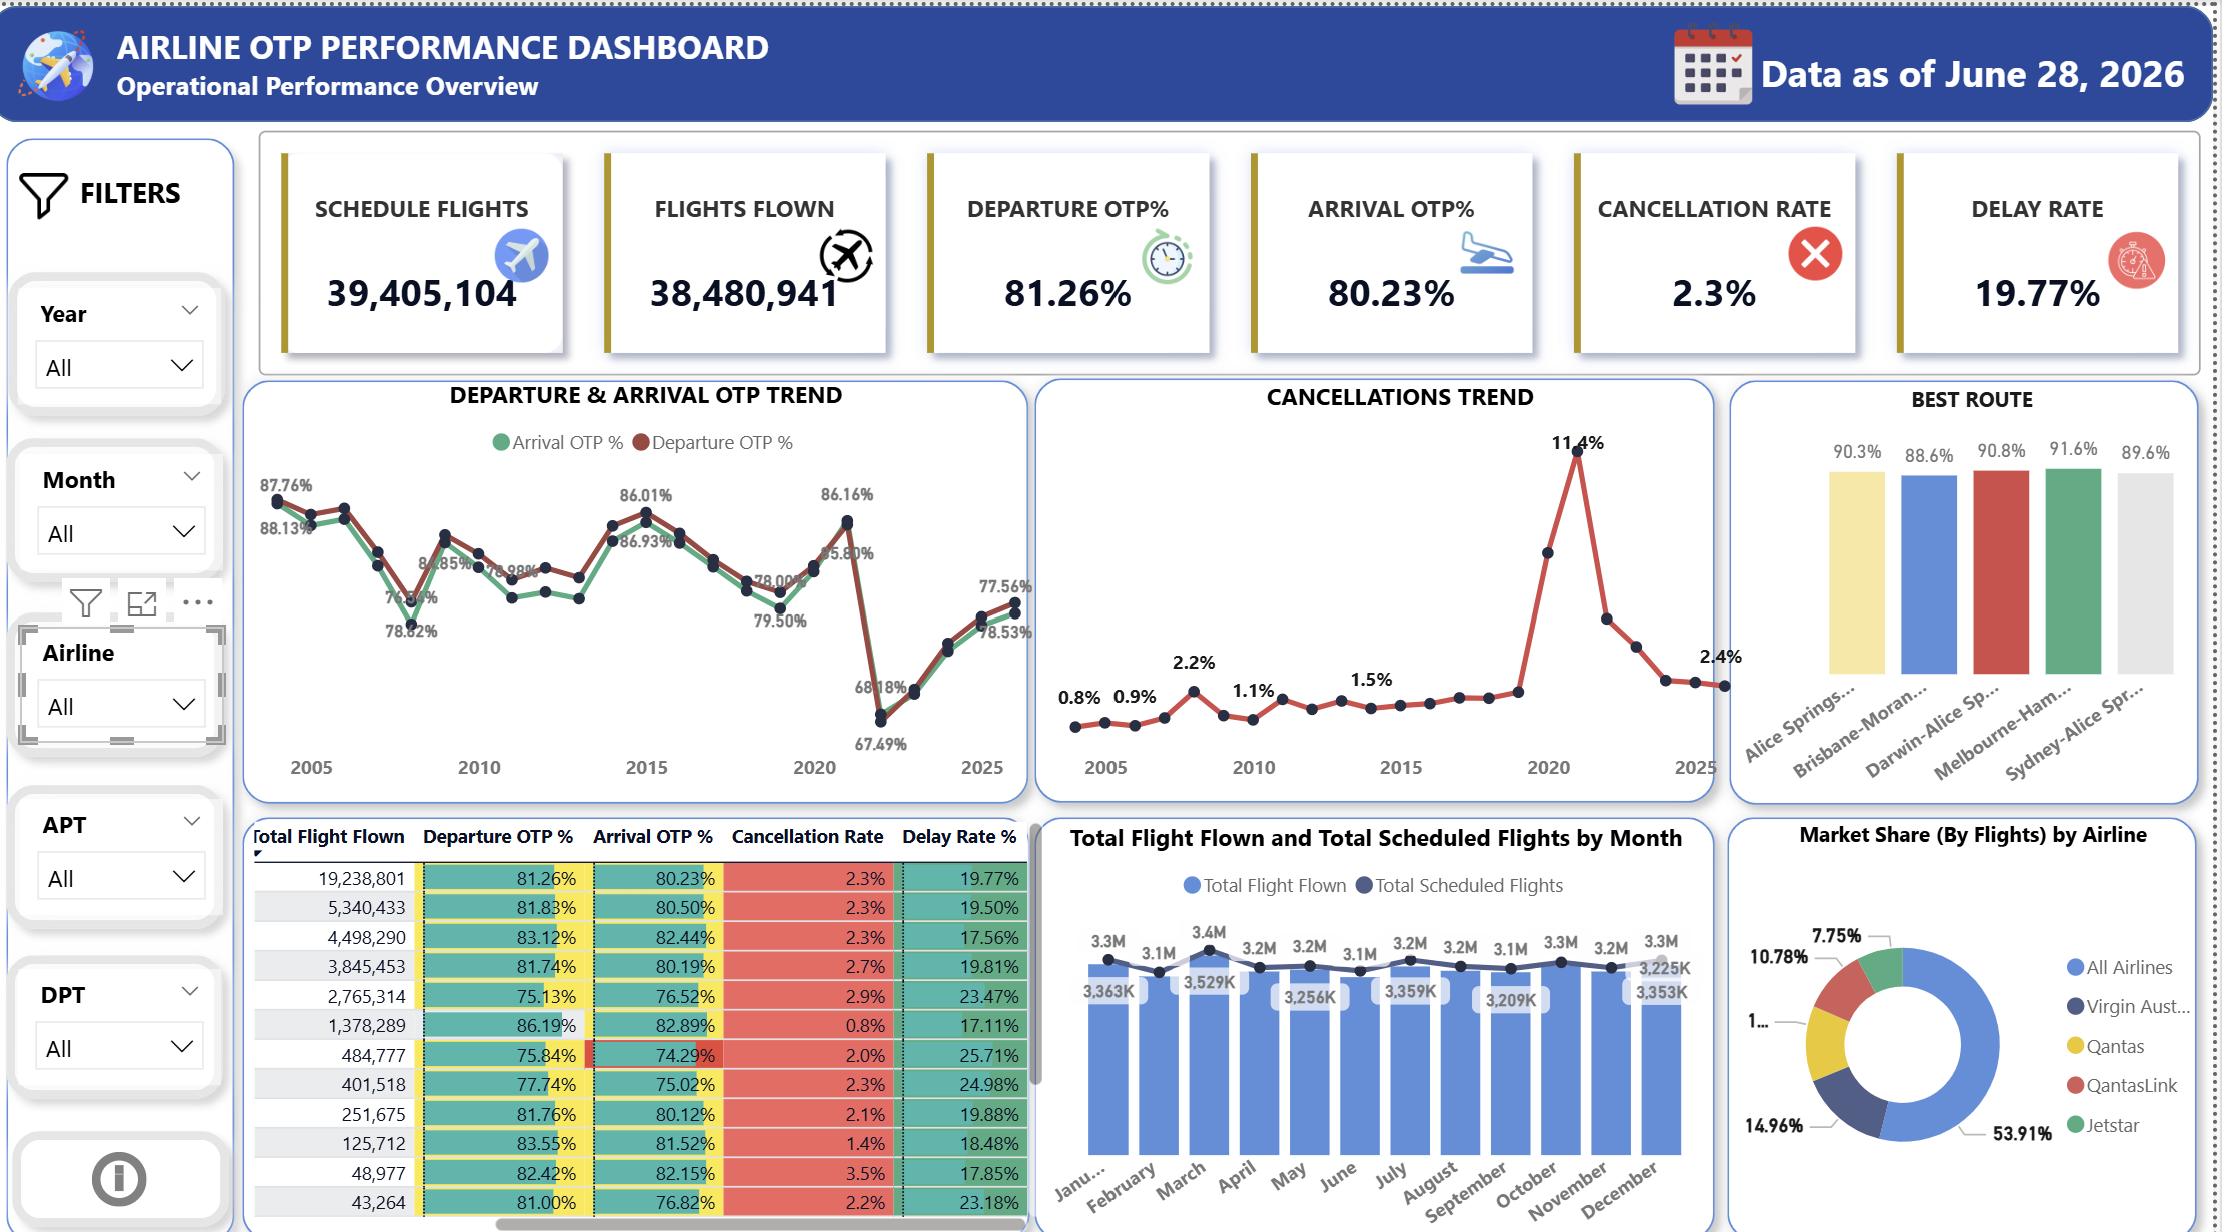

This screenshot's page, from the dashboard's own definition file:
{"tool":"powerbi","page":{"name":"Airline_Overview","canvas":[1280,720],"ordinal":0},"visuals":[{"type":"shape","box":[0,0,1279.9,66.8],"z":0},{"type":"textbox","box":[68.5,5.3,555.7,55.3],"z":1000},{"type":"image","box":[6.6,7.9,61.9,52.7],"z":2000},{"type":"shape","box":[0,67.2,150.1,654.5],"z":3000},{"type":"cardVisual","fields":{"Data":["Fact_OTP_Measures.Today's Date"]},"box":[1002.1,0,279.2,67.2],"z":4000},{"type":"image","box":[953.4,4,76.4,59.3],"z":5000},{"type":"cardVisual","title":"SC","fields":{"Data":["Fact_OTP_Measures.Total Scheduled Flights","Fact_OTP_Measures.Total Flight Flown","Fact_OTP_Measures.Departure OTP %","Fact_OTP_Measures.Arrival OTP %","Fact_OTP_Measures.Cancellation Rate","Fact_OTP_Measures.Delay Rate %"]},"box":[150.1,67.2,1129.9,151.4],"z":6000},{"type":"image","box":[285.8,122.8,40.8,40.8],"z":7000},{"type":"image","box":[472.8,123.8,42.1,40.8],"z":8000},{"type":"image","box":[657.1,123.8,42.1,42.1],"z":9000},{"type":"image","box":[837.5,119.8,48.7,43.5],"z":10000},{"type":"image","box":[1029.8,122.5,42.1,40.8],"z":11000},{"type":"image","box":[1214.2,123.8,43.5,46.1],"z":12000},{"type":"image","box":[9.2,76.4,43.5,65.8],"z":13000},{"type":"actionButton","box":[29,83,104,40.8],"z":14000},{"type":"shape","box":[1.3,143.5,143.5,101.4],"z":15000},{"type":"slicer","fields":{"Values":["DateKey.Year"]},"box":[15.8,162,117.2,67.2],"z":16000},{"type":"shape","box":[0,239.7,143.5,101.4],"z":17000},{"type":"shape","box":[4,638.7,143.5,73.7],"z":18000},{"type":"shape","box":[0,339.8,143.5,101.4],"z":19000},{"type":"shape","box":[0,438.5,143.5,101.4],"z":20000},{"type":"slicer","fields":{"Values":["Dim Route.Arriving_Port"]},"box":[17.1,455.6,117.2,67.2],"z":21000},{"type":"slicer","fields":{"Values":["DateKey.MonthName"]},"box":[17.1,258.1,117.2,67.2],"z":22000},{"type":"slicer","fields":{"Values":["Dim Airline.Airline"]},"box":[17.1,356.9,117.2,67.2],"z":23000},{"type":"shape","box":[0,537.3,143.5,101.4],"z":24000},{"type":"slicer","fields":{"Values":["Dim Route.Departing_Port"]},"box":[15.8,554.4,117.2,67.2],"z":25000},{"type":"shape","box":[135.6,206.7,471.4,262.1],"z":26000},{"type":"shape","box":[135.9,457.3,472.3,262.7],"z":27000},{"type":"shape","box":[592.1,205.1,410.1,262.7],"z":28000},{"type":"shape","box":[592.1,457.3,410.1,262.7],"z":29000},{"type":"shape","box":[991.9,206.2,289.2,262.7],"z":30000},{"type":"shape","box":[990.7,457.3,289.2,262.7],"z":31000},{"type":"actionButton","box":[23.7,655.8,100.1,39.5],"z":32000},{"type":"areaChart","title":"DEPARTURE & ARRIVAL OTP TREND","fields":{"Category":["DateKey.DimDate.Variation.Date Hierarchy.Year"],"Y":["Fact_OTP_Measures.Arrival OTP %","Fact_OTP_Measures.Departure OTP %"]},"box":[147.5,214.7,460.9,241],"z":33000},{"type":"lineChart","title":"CANCELLATIONS TREND","fields":{"Category":["DateKey.DimDate.Variation.Date Hierarchy.Year"],"Y":["Fact_OTP_Measures.Cancellation Rate"]},"box":[607.1,216,409.5,239.7],"z":34000},{"type":"donutChart","fields":{"Category":["Dim Airline.Airline"],"Y":["Fact_OTP_Measures.Market Share (By Flights)"]},"box":[1002.7,468.2,278.9,244],"z":35000},{"type":"lineClusteredColumnComboChart","fields":{"Y":["Fact_OTP_Measures.Total Flight Flown"],"Y2":["Fact_OTP_Measures.Total Scheduled Flights"],"Category":["DateKey.DimDate.Variation.Date Hierarchy.Year","DateKey.DimDate.Variation.Date Hierarchy.Month"]},"box":[605.8,468.8,384.5,243.6],"z":36000},{"type":"tableEx","fields":{"Values":["Dim Airline.Airline","Fact_OTP_Measures.Total Flight Flown","Fact_OTP_Measures.Departure OTP %","Fact_OTP_Measures.Arrival OTP %","Fact_OTP_Measures.Cancellation Rate","Fact_OTP_Measures.Delay Rate %"]},"box":[146.3,464.3,465.4,246.5],"z":36001},{"type":"clusteredColumnChart","title":"BEST ROUTE ","fields":{"Y":["Fact_OTP_Measures.Best Route OTP"],"Category":["Dim Route.Route"]},"box":[1002.2,217.7,277.6,239.6],"z":36002}]}

Visuals, with their boxes in screenshot pixels (x1, y1, x2, y2), scaled from the page's 1280x720 canvas onto the 2222x1232 screenshot:
shape: {"left": 0, "top": 0, "right": 2221, "bottom": 114}
textbox: {"left": 119, "top": 9, "right": 1084, "bottom": 104}
image: {"left": 11, "top": 14, "right": 119, "bottom": 104}
shape: {"left": 0, "top": 115, "right": 261, "bottom": 1231}
cardVisual - Fact_OTP_Measures.Today's Date: {"left": 1740, "top": 0, "right": 2221, "bottom": 115}
image: {"left": 1655, "top": 7, "right": 1788, "bottom": 108}
"SC" cardVisual: {"left": 261, "top": 115, "right": 2221, "bottom": 374}
image: {"left": 496, "top": 210, "right": 567, "bottom": 280}
image: {"left": 821, "top": 212, "right": 894, "bottom": 282}
image: {"left": 1141, "top": 212, "right": 1214, "bottom": 284}
image: {"left": 1454, "top": 205, "right": 1538, "bottom": 279}
image: {"left": 1788, "top": 210, "right": 1861, "bottom": 279}
image: {"left": 2108, "top": 212, "right": 2183, "bottom": 291}
image: {"left": 16, "top": 131, "right": 91, "bottom": 243}
actionButton: {"left": 50, "top": 142, "right": 231, "bottom": 212}
shape: {"left": 2, "top": 246, "right": 251, "bottom": 419}
slicer - DateKey.Year: {"left": 27, "top": 277, "right": 231, "bottom": 392}
shape: {"left": 0, "top": 410, "right": 249, "bottom": 584}
shape: {"left": 7, "top": 1093, "right": 256, "bottom": 1219}
shape: {"left": 0, "top": 581, "right": 249, "bottom": 755}
shape: {"left": 0, "top": 750, "right": 249, "bottom": 924}
slicer - Dim Route.Arriving_Port: {"left": 30, "top": 780, "right": 233, "bottom": 895}
slicer - DateKey.MonthName: {"left": 30, "top": 442, "right": 233, "bottom": 557}
slicer - Dim Airline.Airline: {"left": 30, "top": 611, "right": 233, "bottom": 726}
shape: {"left": 0, "top": 919, "right": 249, "bottom": 1093}
slicer - Dim Route.Departing_Port: {"left": 27, "top": 949, "right": 231, "bottom": 1064}
shape: {"left": 235, "top": 354, "right": 1054, "bottom": 802}
shape: {"left": 236, "top": 782, "right": 1056, "bottom": 1231}
shape: {"left": 1028, "top": 351, "right": 1740, "bottom": 800}
shape: {"left": 1028, "top": 782, "right": 1740, "bottom": 1231}
shape: {"left": 1722, "top": 353, "right": 2221, "bottom": 802}
shape: {"left": 1720, "top": 782, "right": 2221, "bottom": 1231}
actionButton: {"left": 41, "top": 1122, "right": 215, "bottom": 1190}
"DEPARTURE & ARRIVAL OTP TREND" areaChart: {"left": 256, "top": 367, "right": 1056, "bottom": 780}
"CANCELLATIONS TREND" lineChart: {"left": 1054, "top": 370, "right": 1765, "bottom": 780}
donutChart - Dim Airline.Airline x Fact_OTP_Measures.Market Share (By Flights): {"left": 1741, "top": 801, "right": 2221, "bottom": 1219}
lineClusteredColumnComboChart - Fact_OTP_Measures.Total Flight Flown x Fact_OTP_Measures.Total Scheduled Flights: {"left": 1052, "top": 802, "right": 1719, "bottom": 1219}
tableEx - Dim Airline.Airline x Fact_OTP_Measures.Total Flight Flown: {"left": 254, "top": 794, "right": 1062, "bottom": 1216}
"BEST ROUTE " clusteredColumnChart: {"left": 1740, "top": 373, "right": 2221, "bottom": 782}
